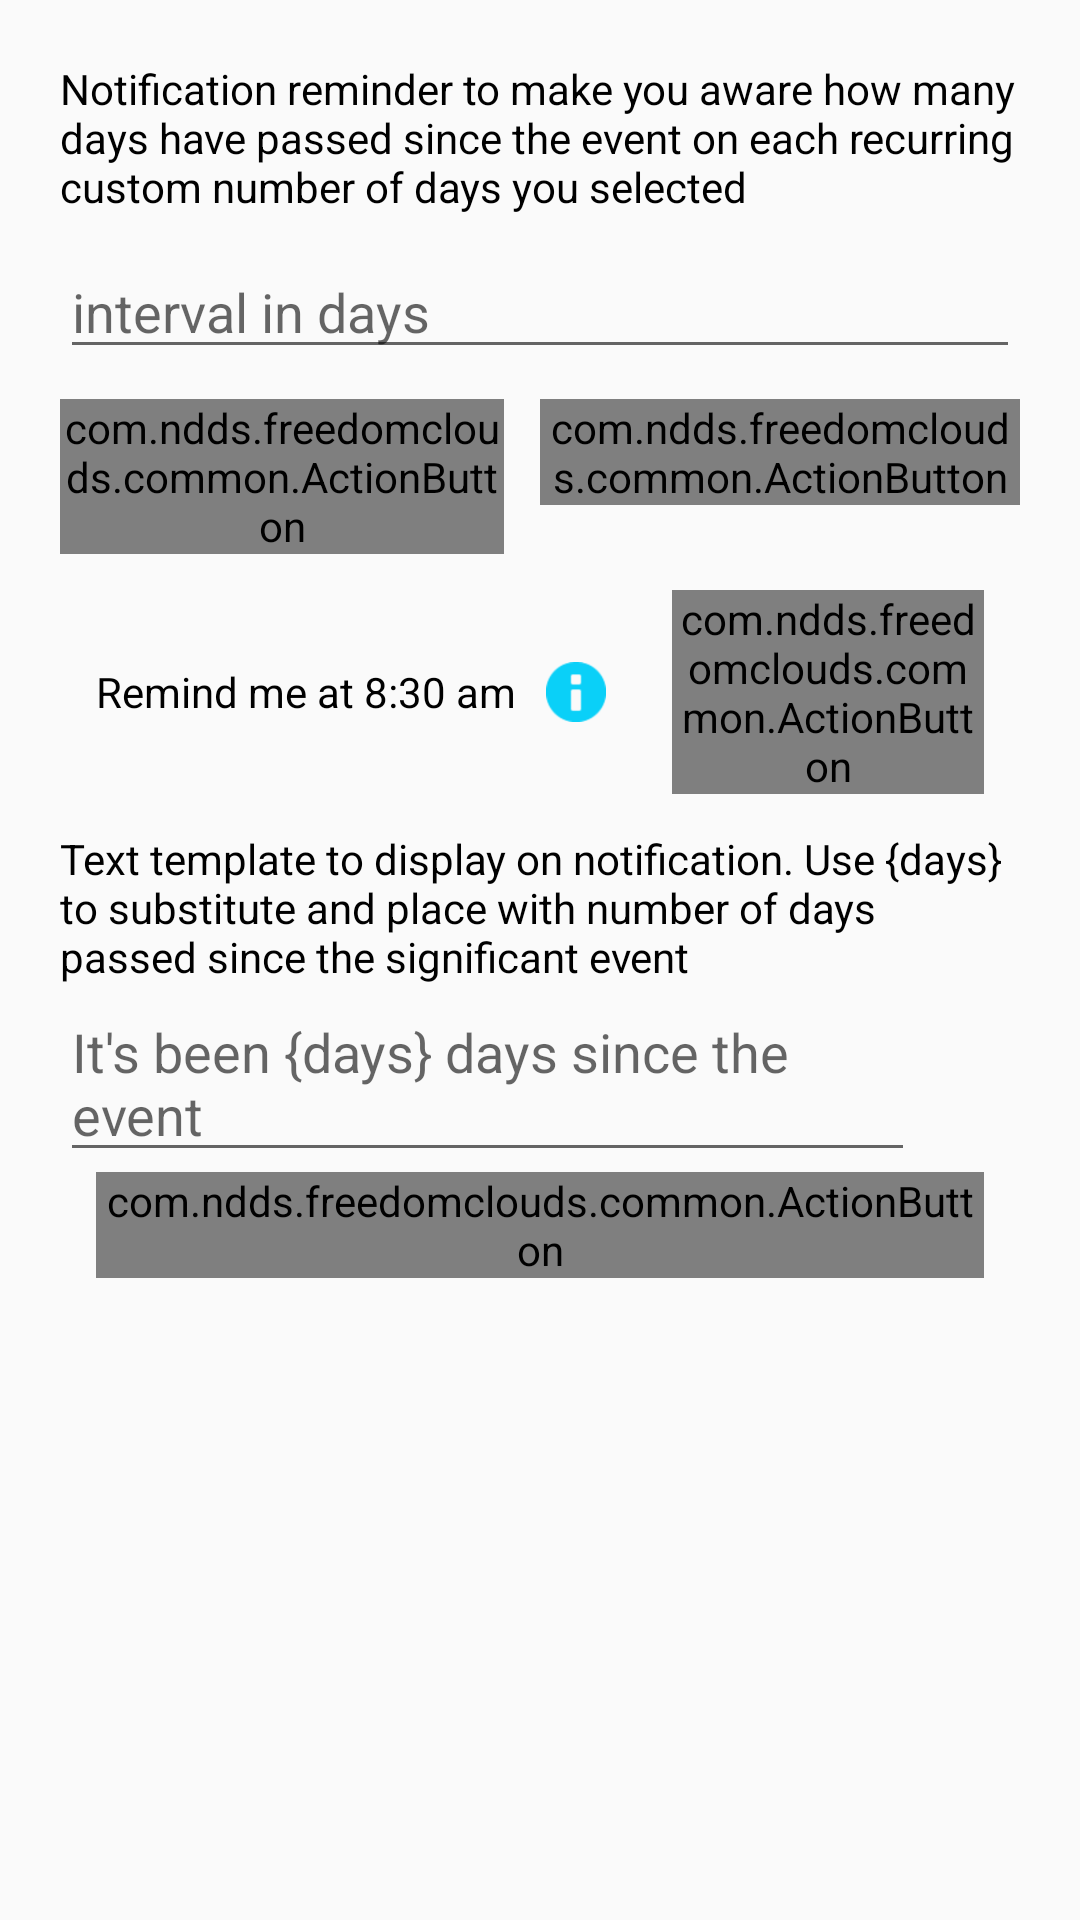

Named icons in this screenshot (1080×1920) and their bounding boxes, box(x1, y1, x2, y2):
info: box(546, 662, 606, 722)
